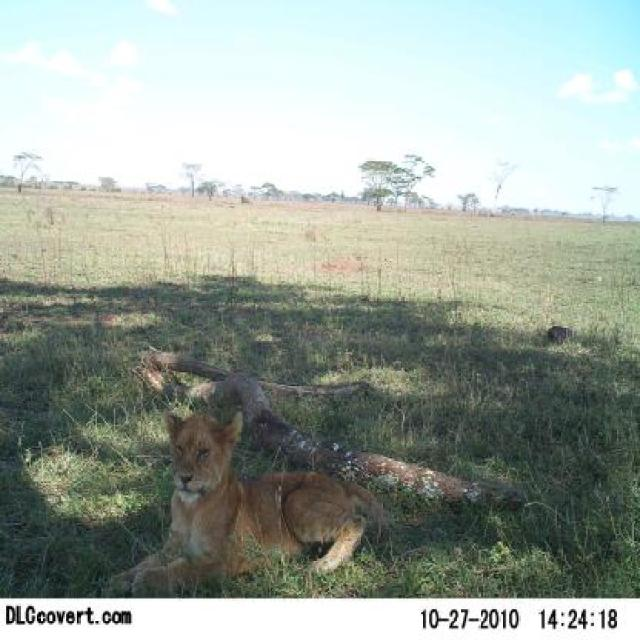Lion: (74, 394, 391, 600)
